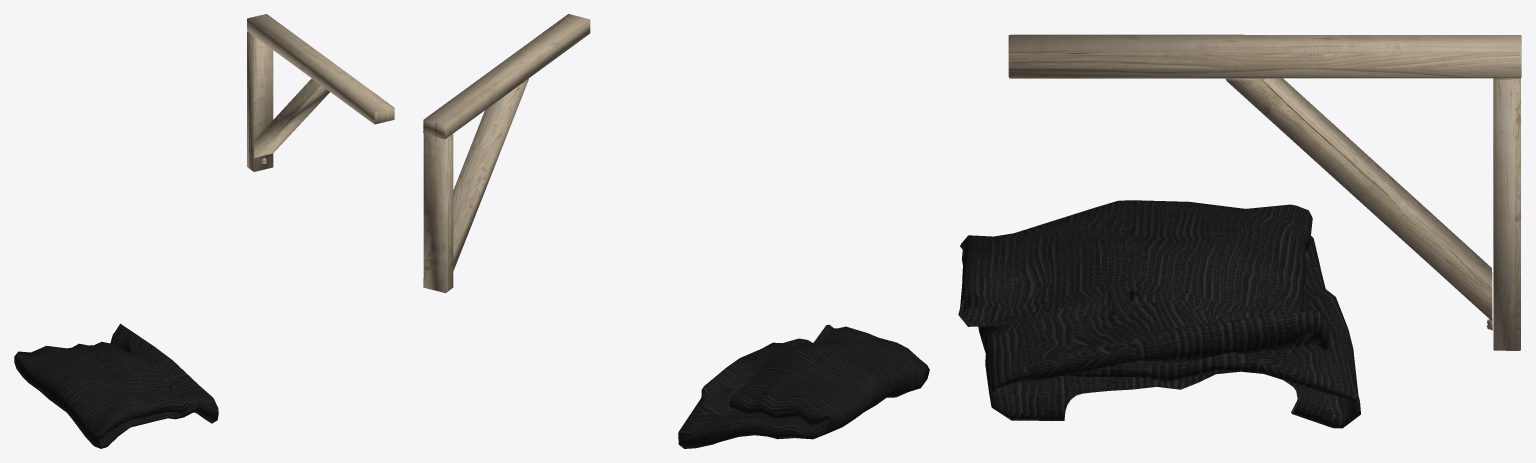
File: rod-cloth032.glb
The picture shows the model from 3 angles, left to right: view 1: azimuth 30°, elevation 25°; view 2: azimuth 150°, elevation 25°; view 3: azimuth 270°, elevation 25°; orthographic projection. The views are drawn at different scales.
Visible parts, largest first — view 1: cloth032.001, wood_hanger6.001; view 2: cloth032.001, wood_hanger6.001; view 3: cloth032.001, wood_hanger6.001.
Boxes of the visible parts, x1,y1,x2,y2 form: cloth032.001: [14, 323, 218, 448]; wood_hanger6.001: [247, 14, 394, 171]; cloth032.001: [678, 324, 929, 448]; wood_hanger6.001: [423, 14, 590, 293]; cloth032.001: [958, 200, 1360, 428]; wood_hanger6.001: [1008, 34, 1521, 350].
Bounding box in the file's own units: 0.5261 × 0.4476 × 0.4109.
2 materials, 2 textured.
